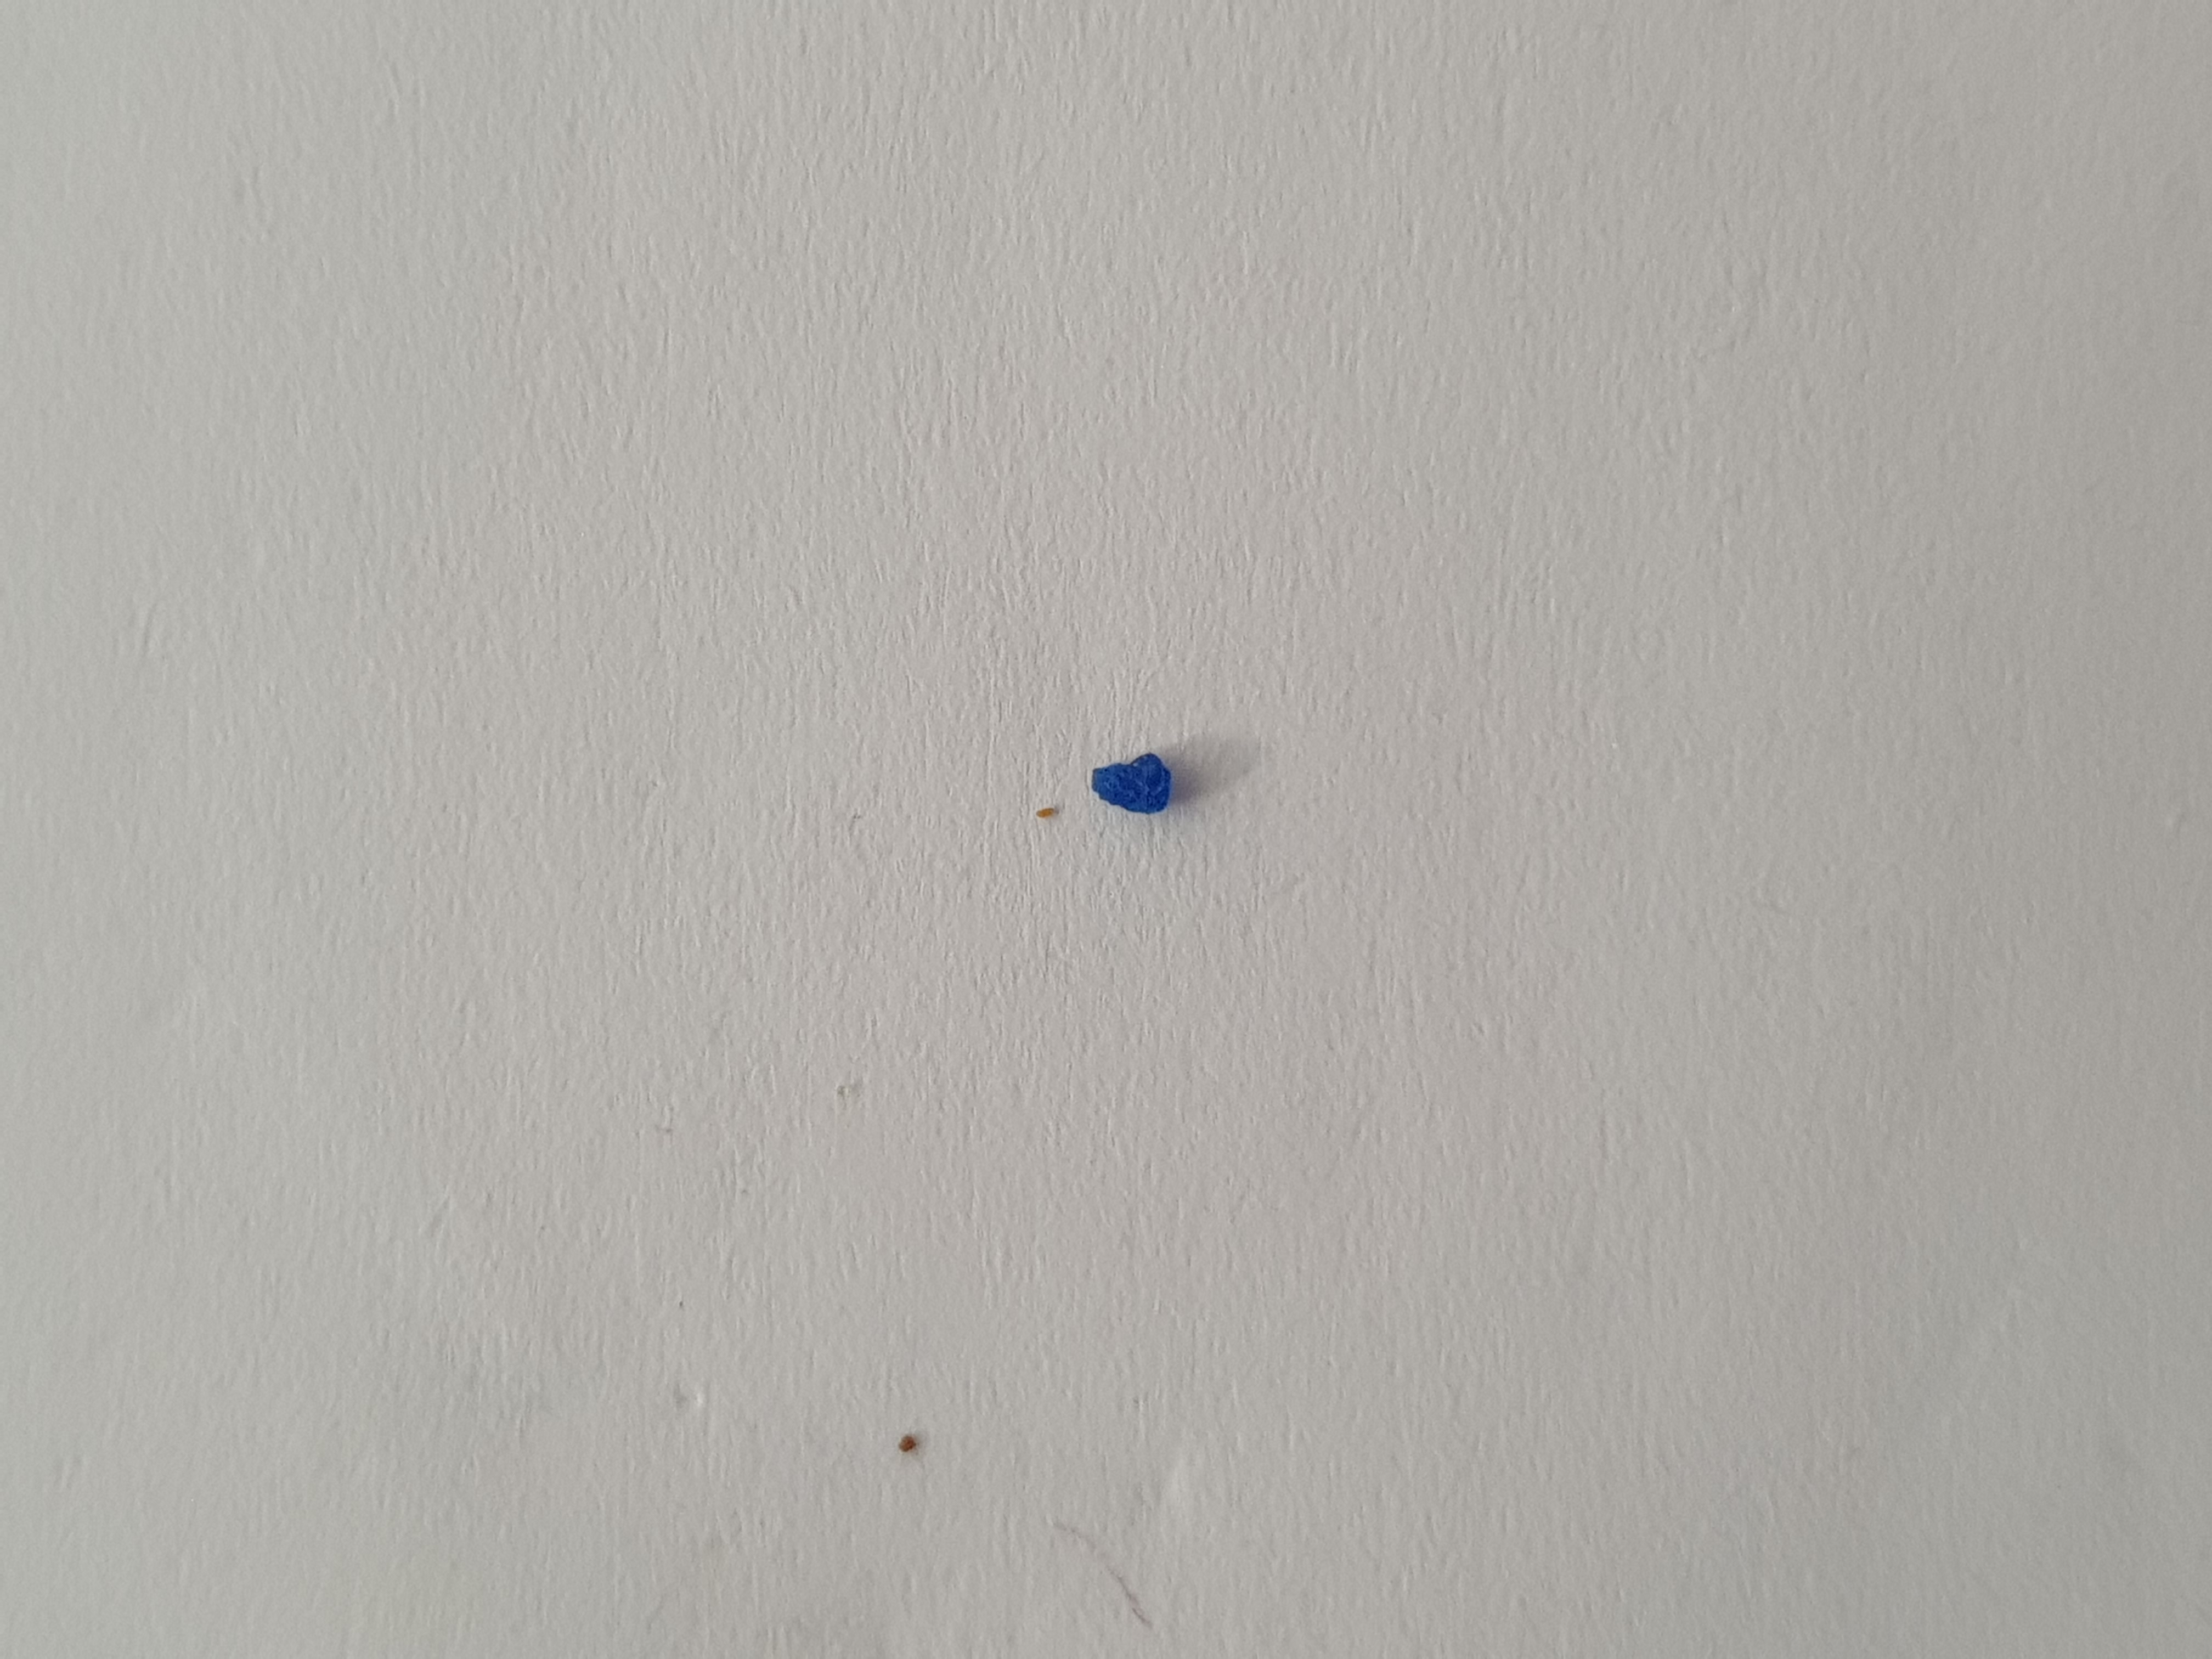plastic: (1080, 739, 1188, 830)
